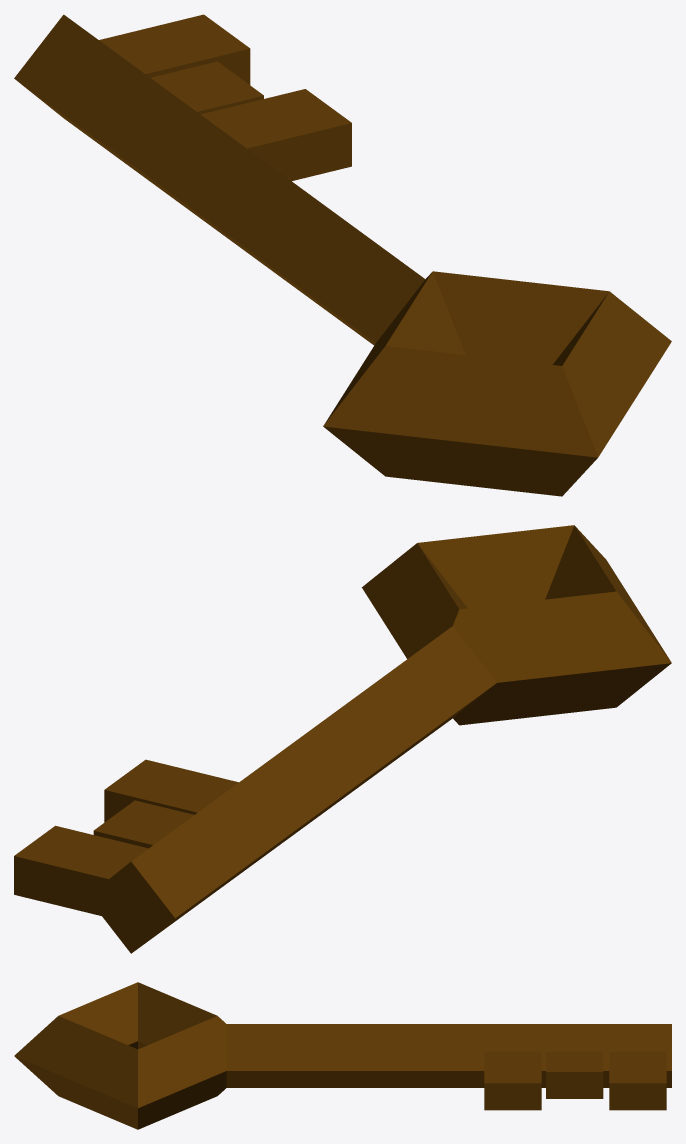
Rendered from key.fbx.
The picture shows the model from 3 angles, top to bottom: view 1: azimuth 30°, elevation 25°; view 2: azimuth 150°, elevation 25°; view 3: azimuth 270°, elevation 25°; orthographic projection. The views are drawn at different scales.
Parts seen in each view (by area): view 1: Torus; view 2: Torus; view 3: Torus.
Part boxes in pixels (x1,y1,x2,y2): Torus: (14, 14, 671, 496); Torus: (14, 525, 671, 953); Torus: (14, 982, 671, 1129).
Size of the model in its own units: 274 by 98 by 727.
